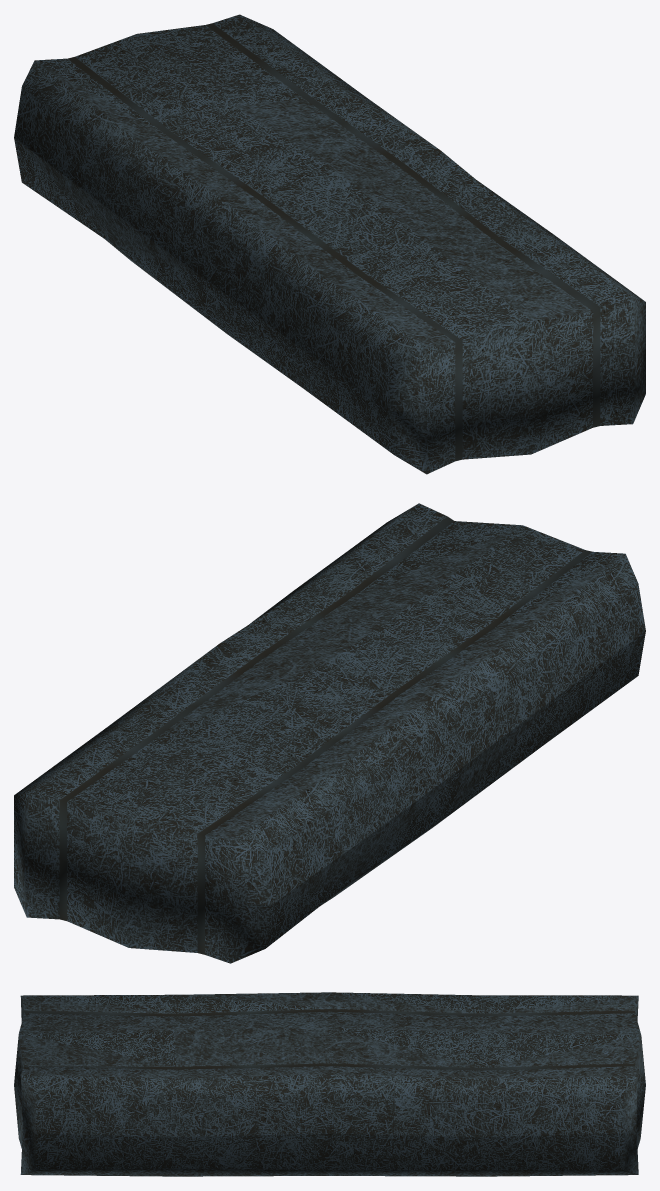
Rendered from Haybale_big.fbx.
3 views of the same model, one above another, from view 1: azimuth 30°, elevation 25°; view 2: azimuth 150°, elevation 25°; view 3: azimuth 270°, elevation 25° (orthographic). The views are drawn at different scales.
Parts seen in each view (by area): view 1: bigHaybale; view 2: bigHaybale; view 3: bigHaybale.
Part boxes in pixels (x1,y1,x2,y2): bigHaybale: (14,14,645,474); bigHaybale: (14,503,645,963); bigHaybale: (14,992,645,1176).
Size of the model in its own units: 1.61 by 0.8218 by 4.14.
Materials: 1 (1 with a texture image).
